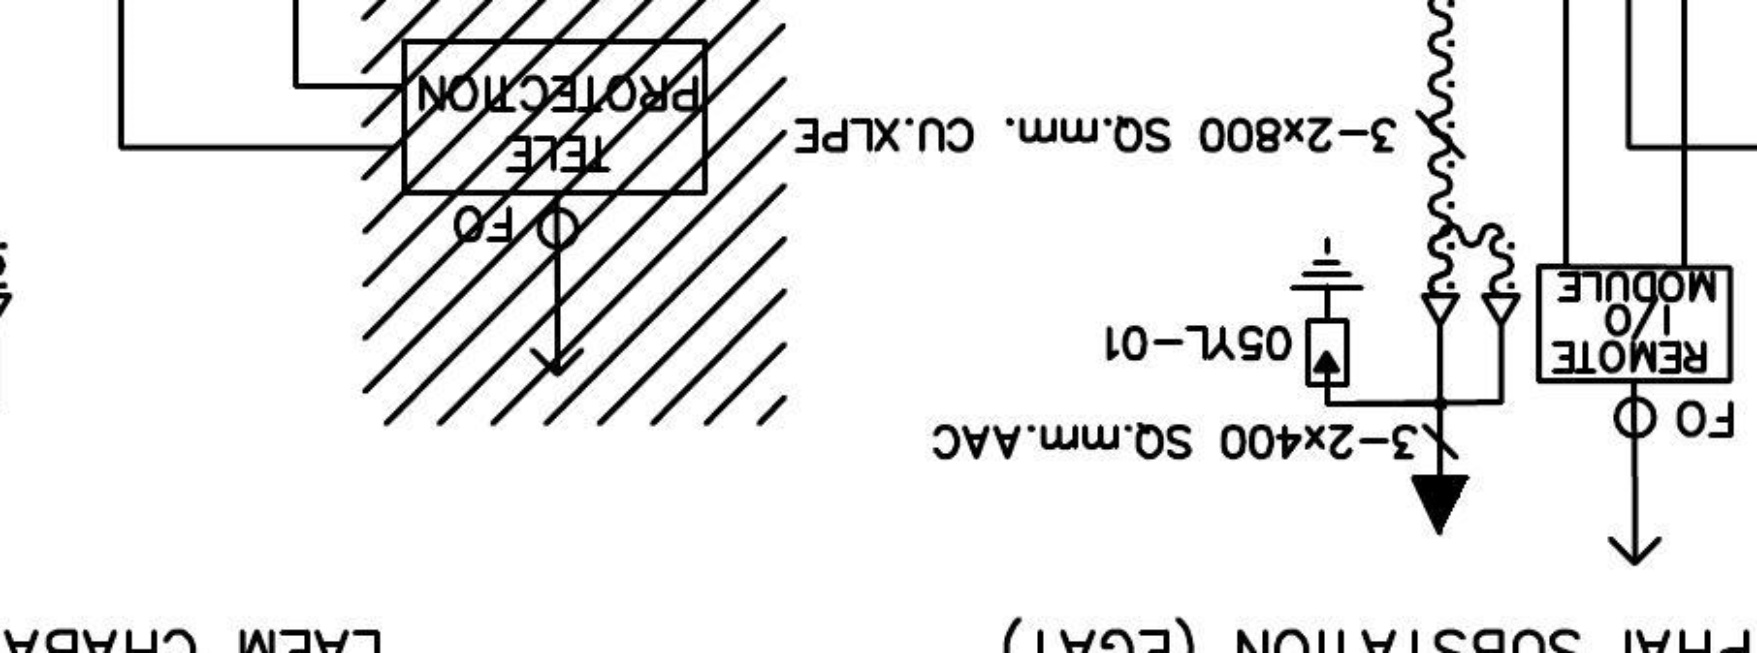115_la: (1289, 234, 1366, 390)
remote_io_module: (1532, 260, 1737, 386)
tele_protection: (397, 32, 714, 200)
terminator_double: (1419, 290, 1523, 408)
